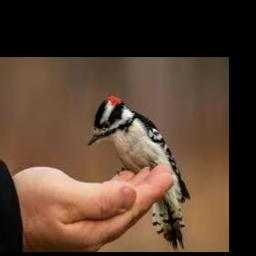Woodpecker: (88, 94, 190, 251)
